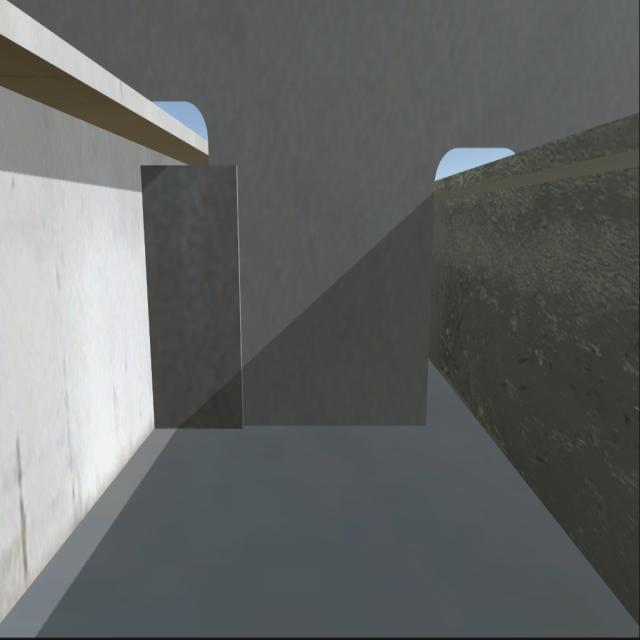fillet_yong_jeop_jang: (150, 422, 423, 434)
longi_yong_jeop_jang: (138, 168, 152, 444)
plate_CP01: (145, 167, 238, 430)
